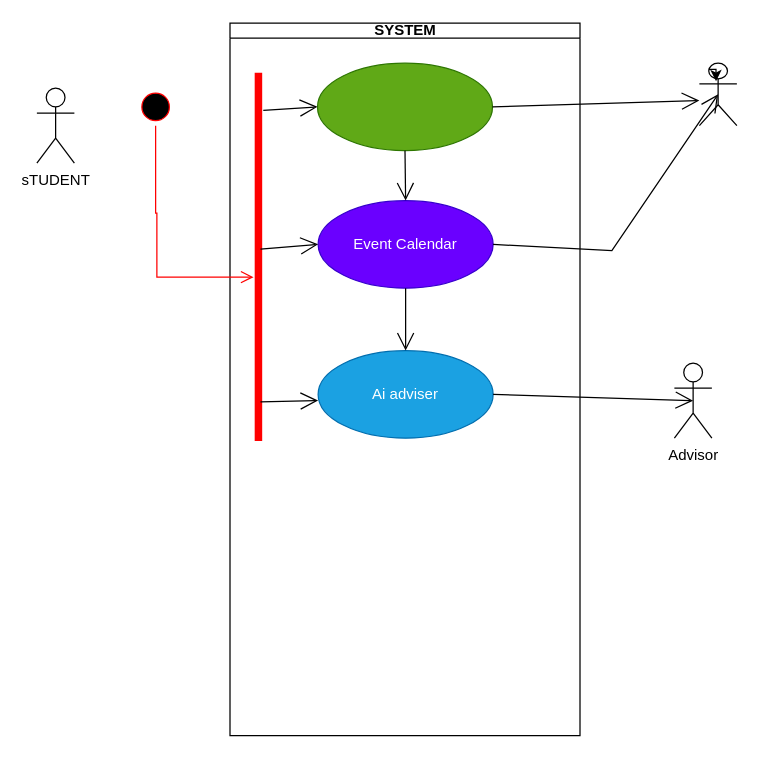
Some shapes in this 761 by 758 pixel diagram are drawn without their labels. Here are the shapes that lost their labels. From the top down, the box of each, then its label:
(316, 62, 492, 151): Course Registration
(698, 62, 737, 126): Admin
